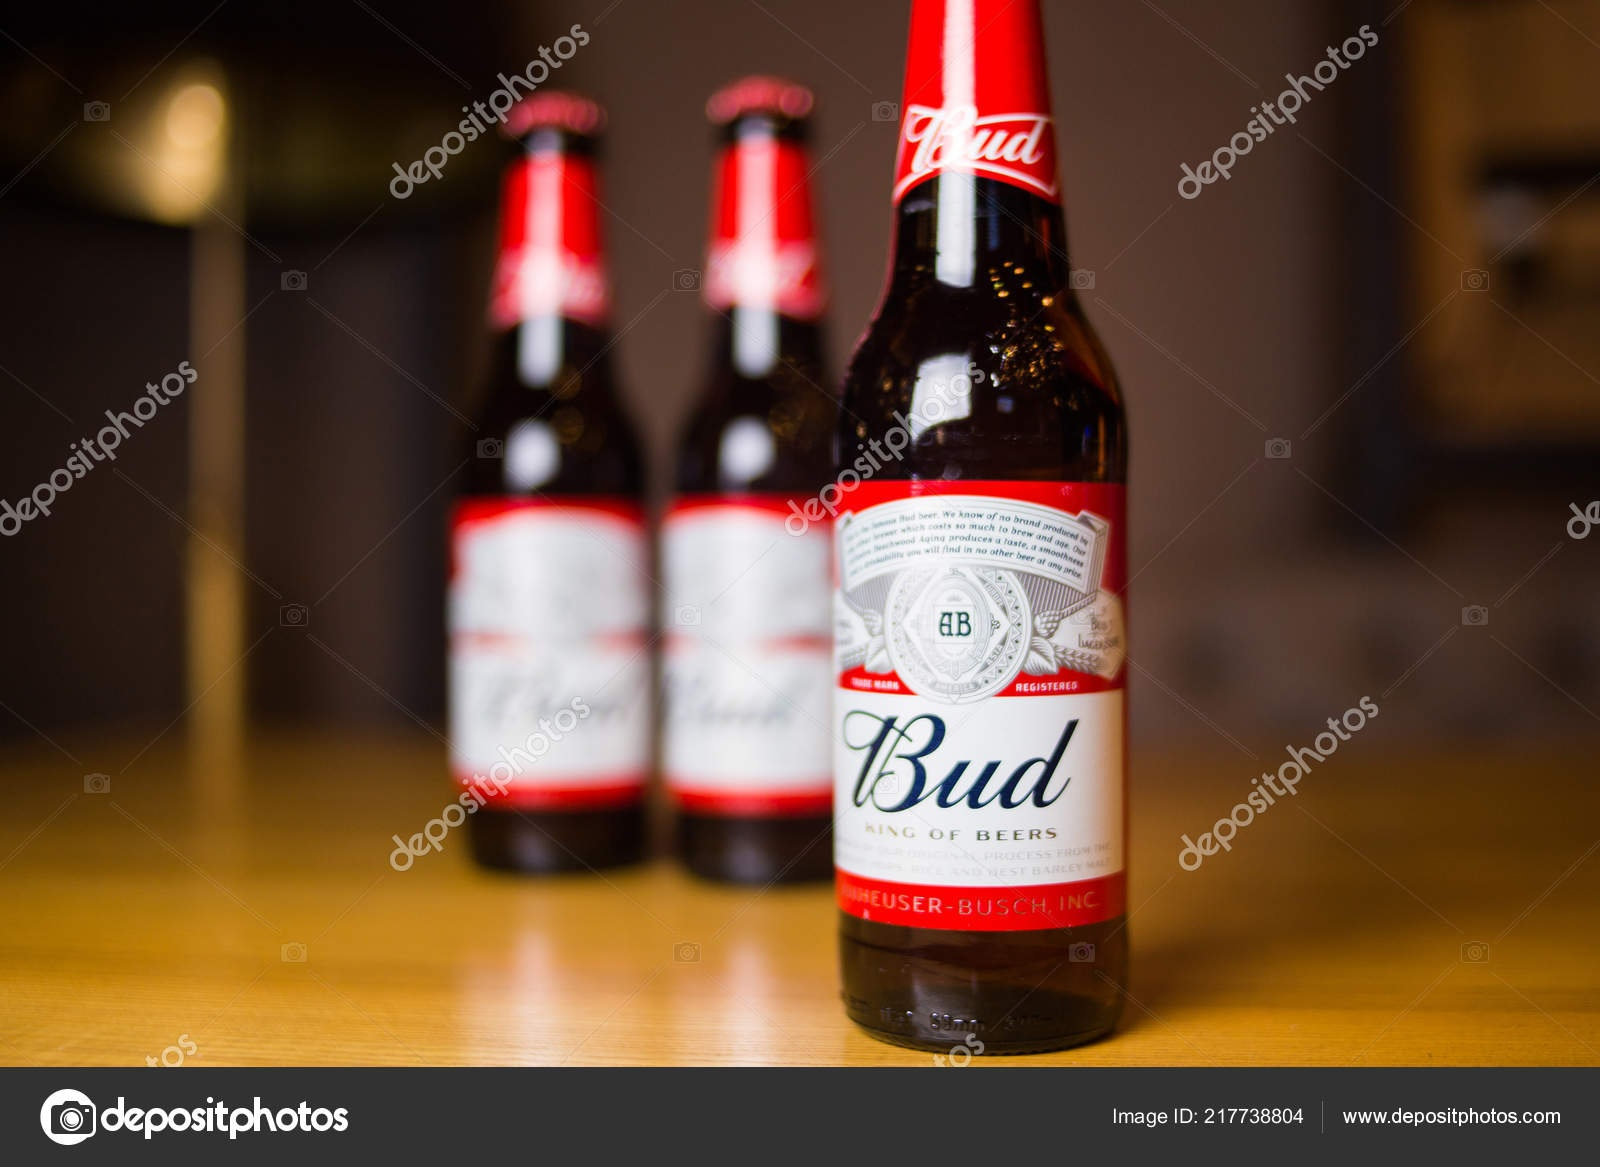beerBottle: (836, 29, 1125, 1044)
